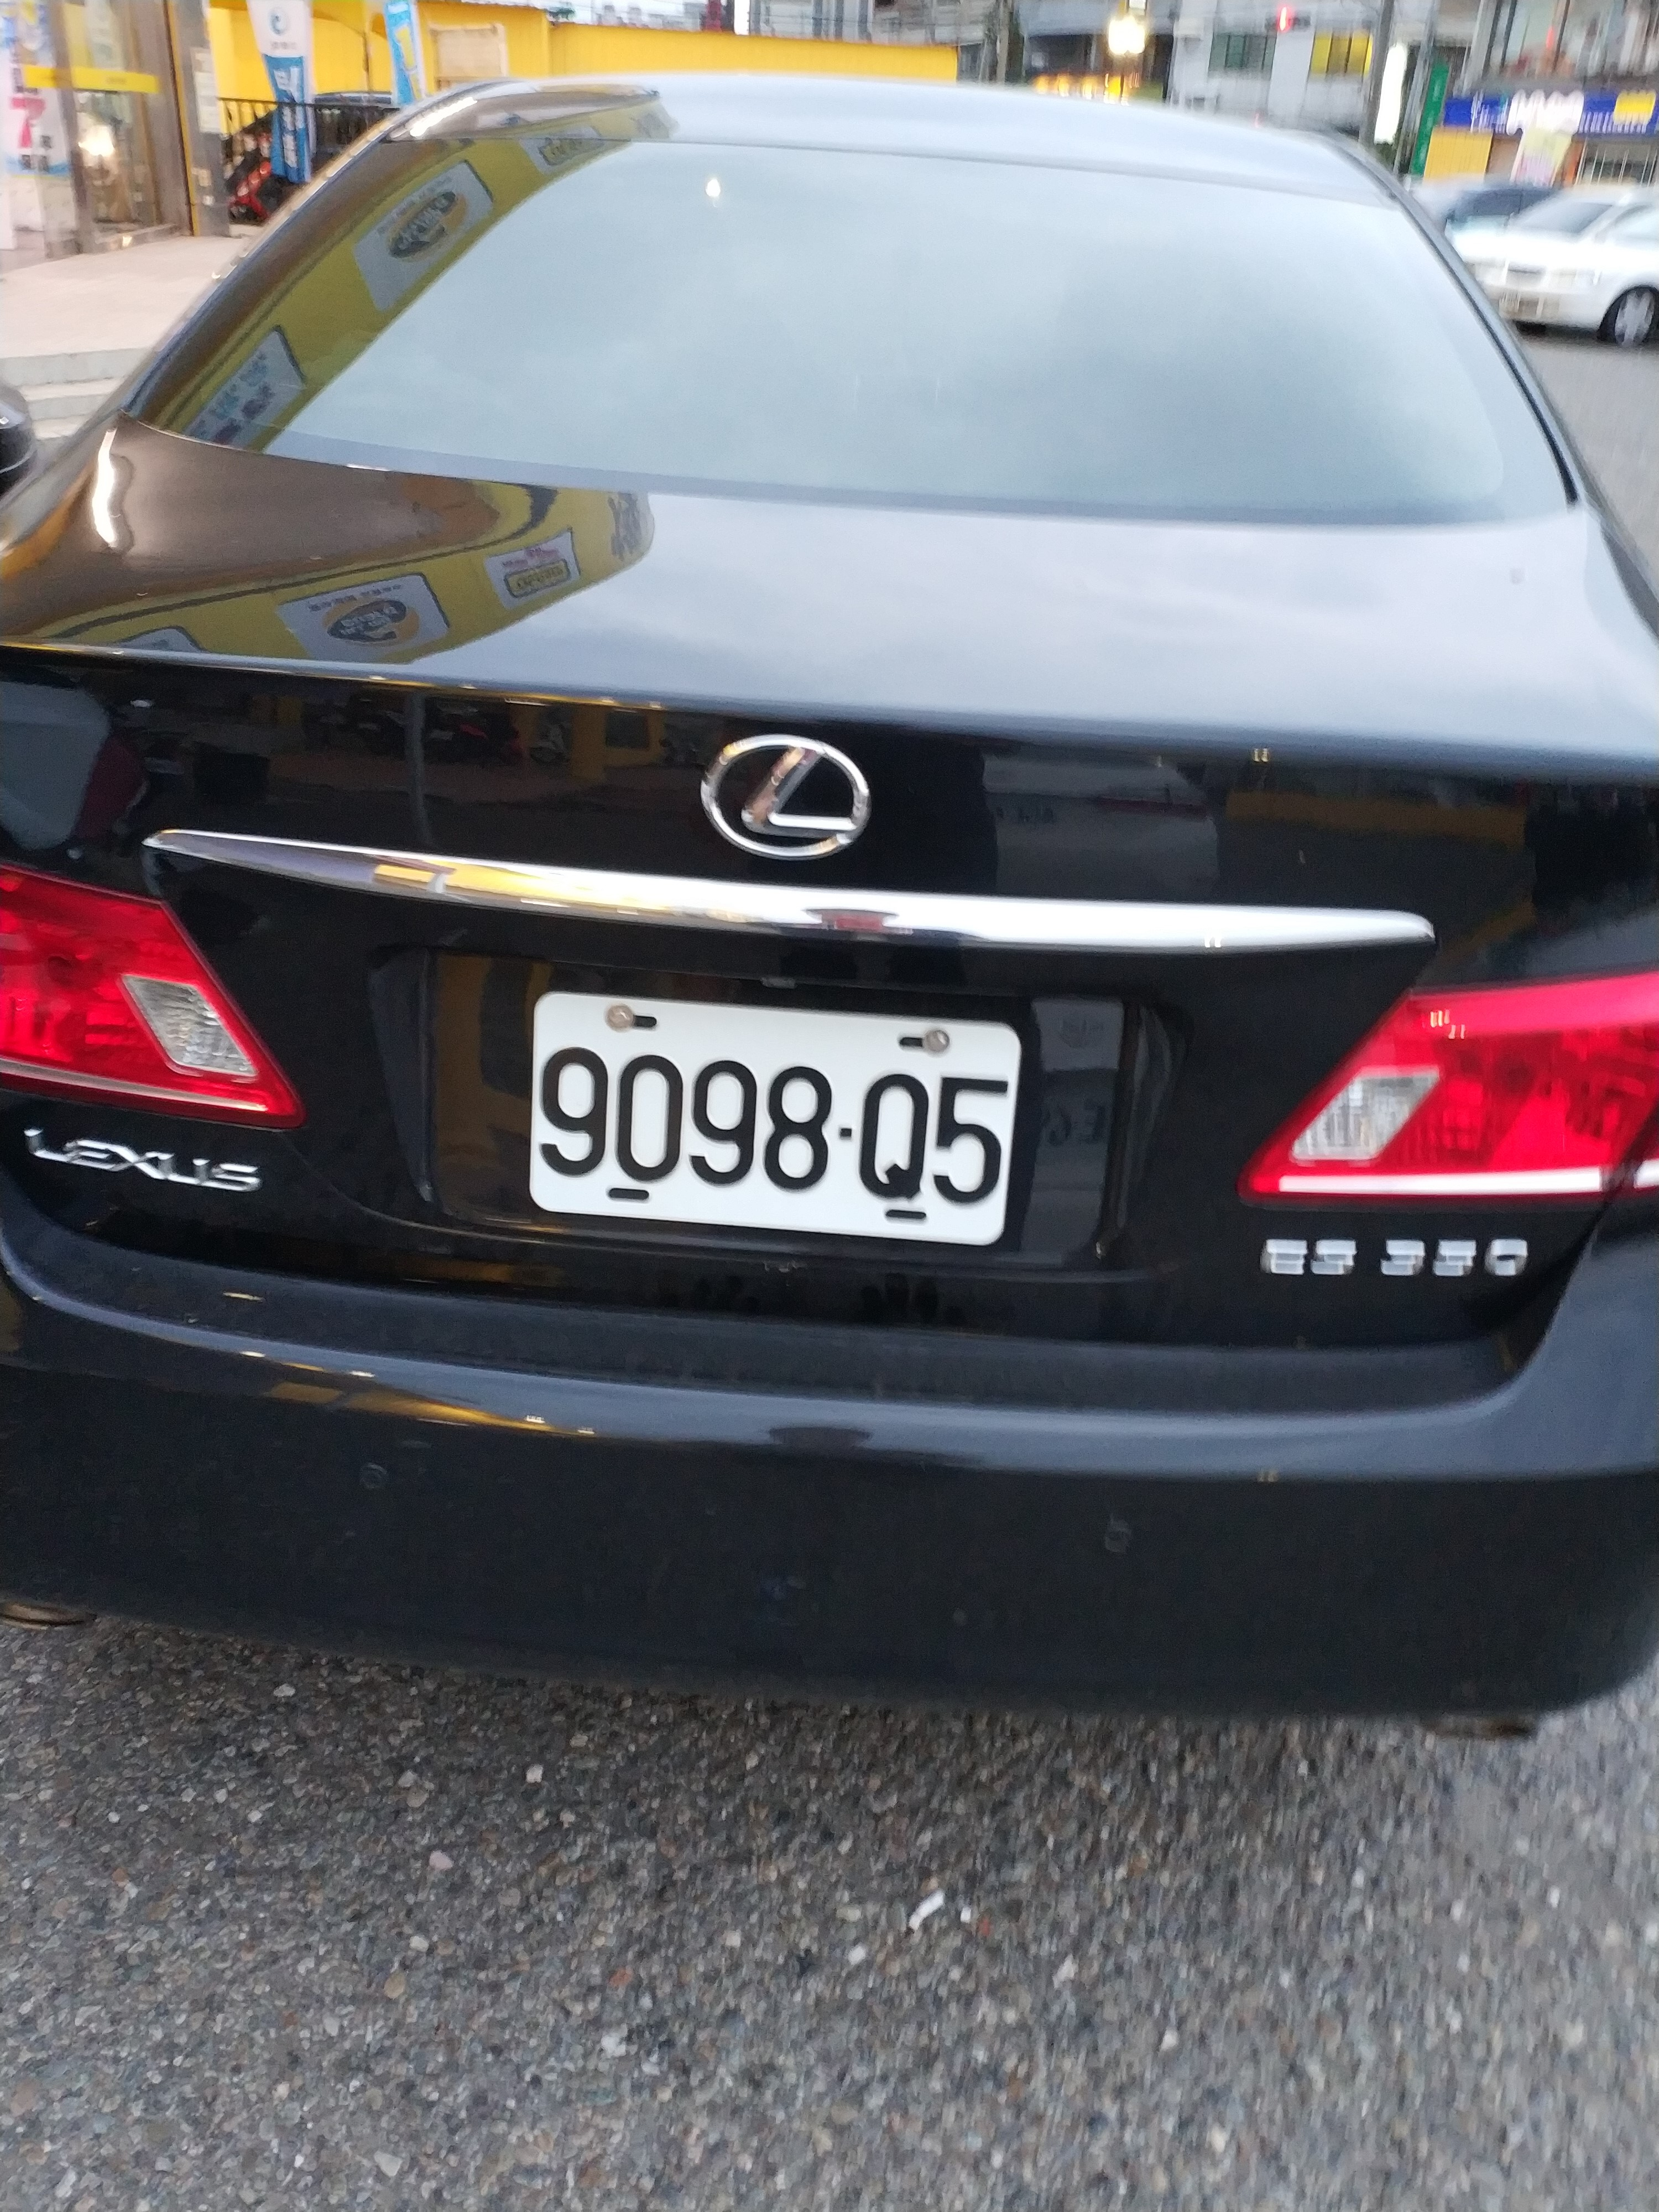car: (0, 80, 1657, 1749)
car_card: (519, 984, 1028, 1230)
